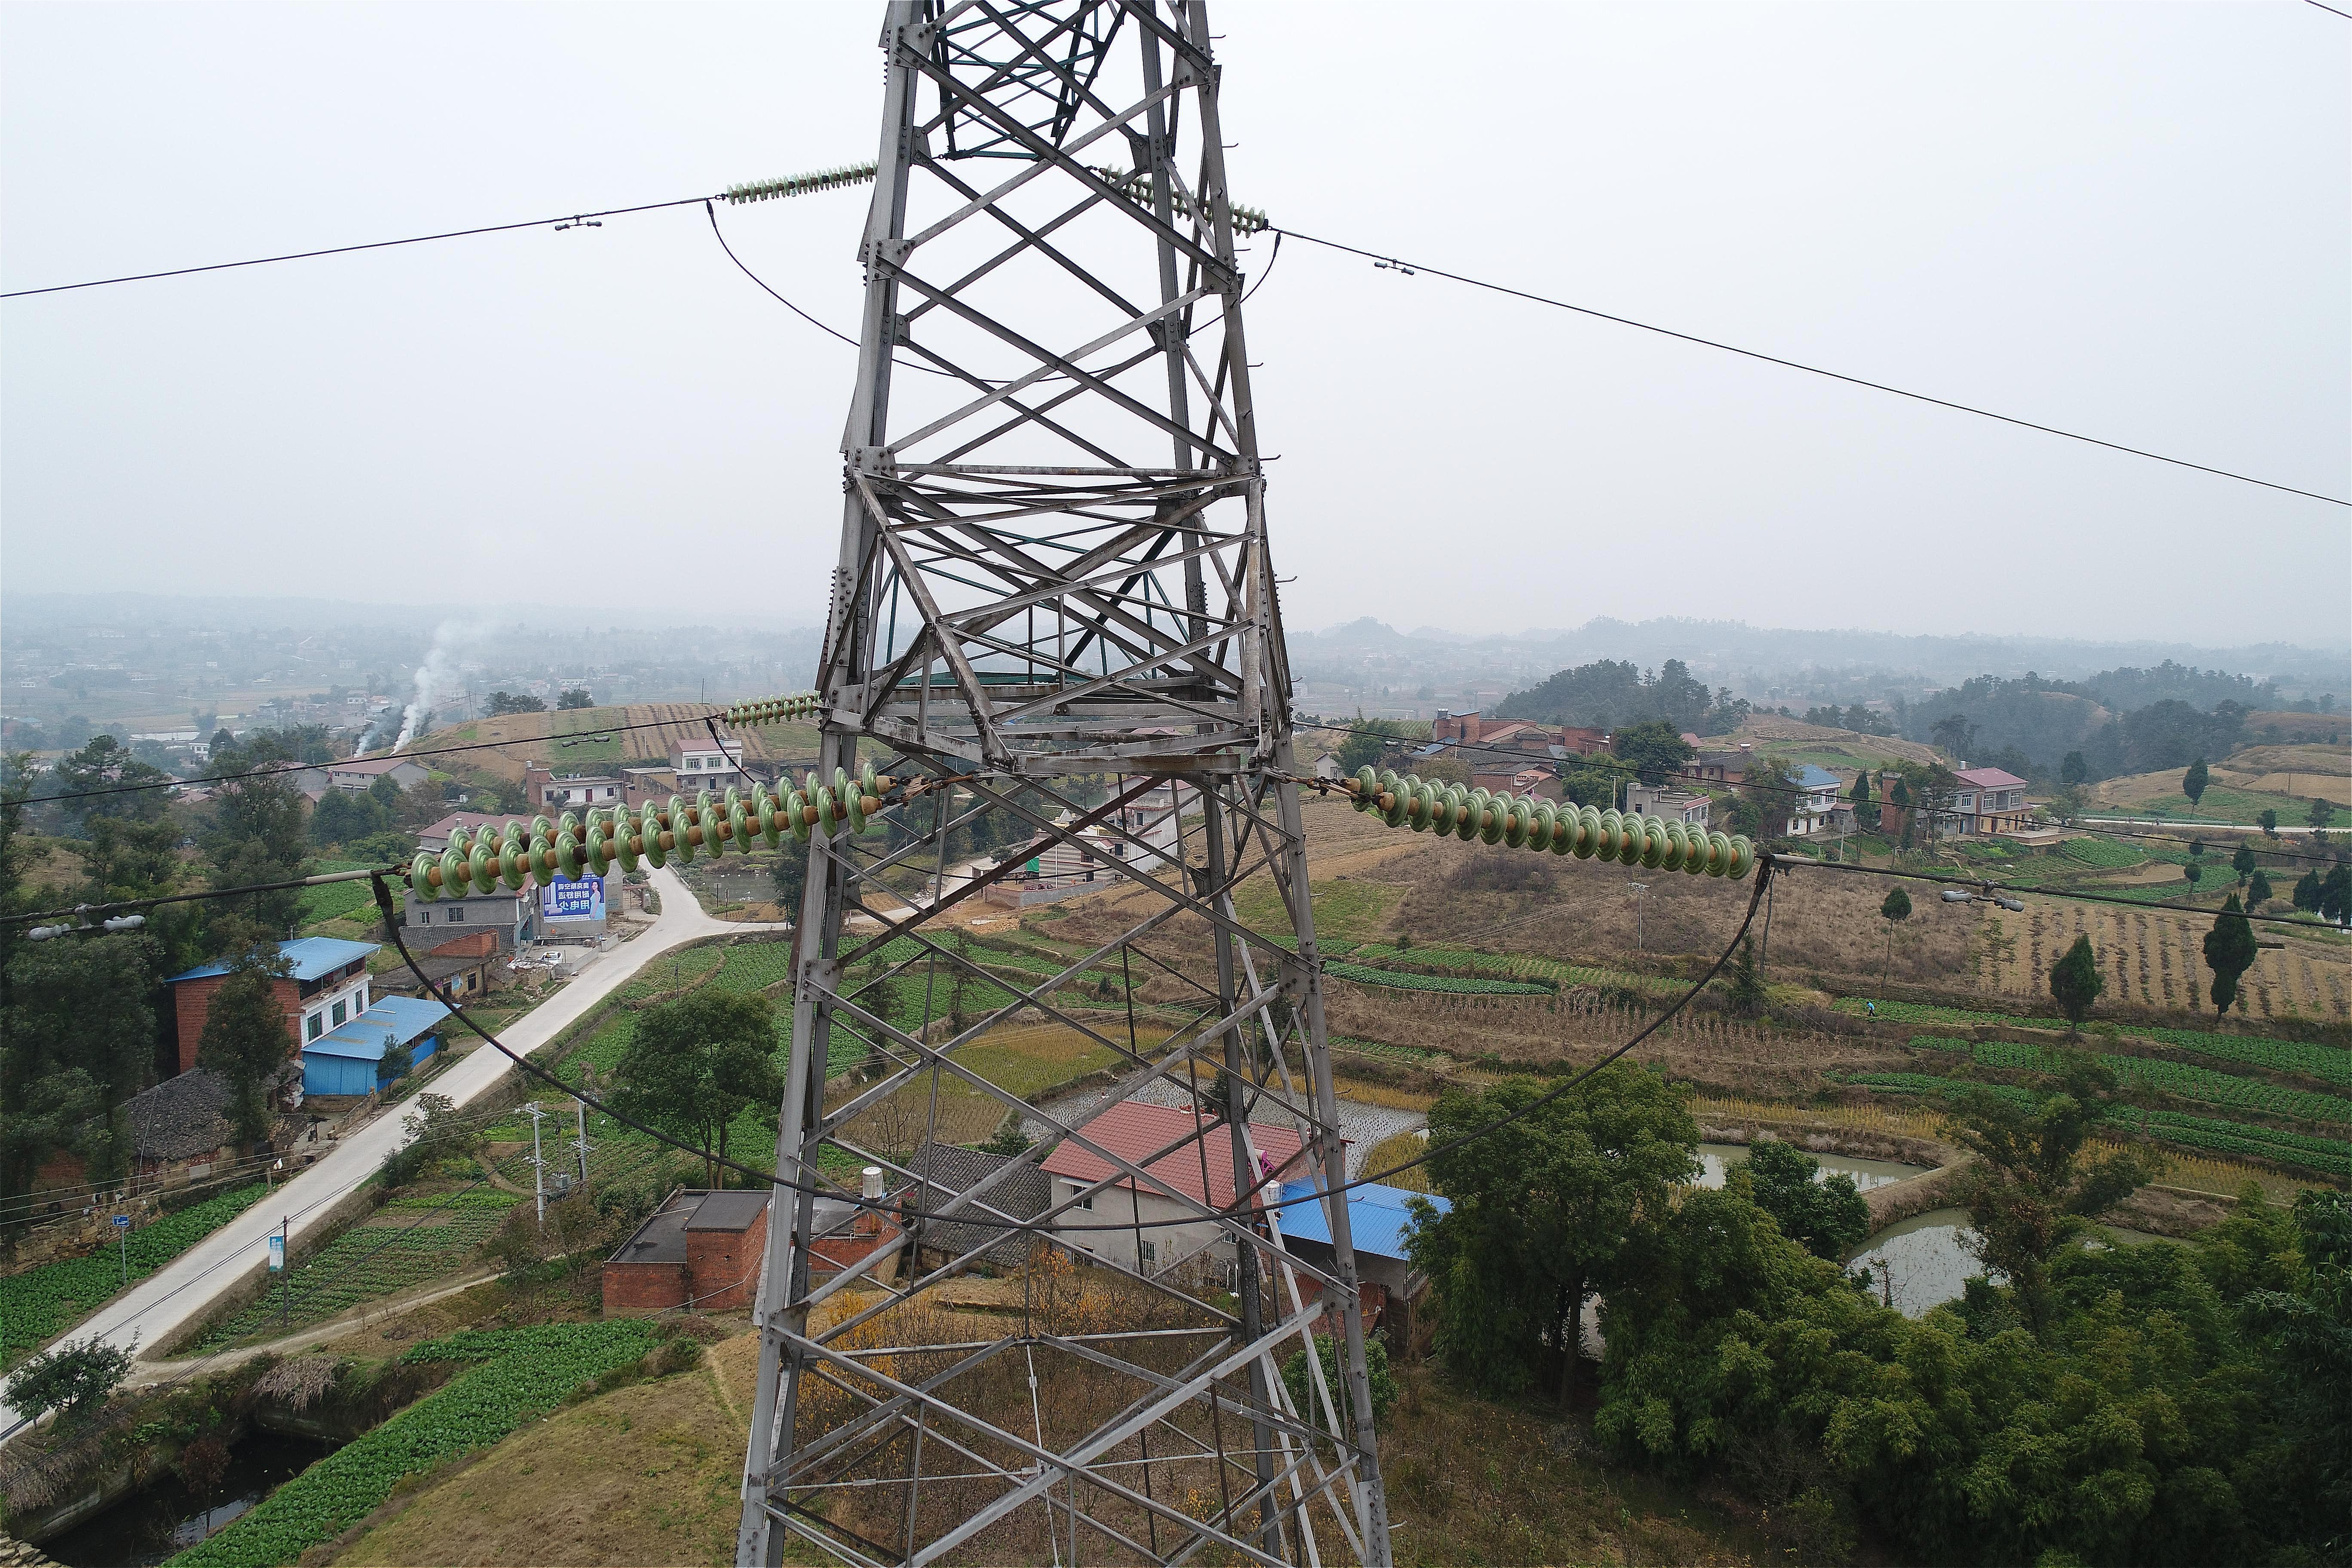insultor3: (409, 759, 882, 903), (1351, 758, 1760, 882), (723, 164, 882, 210)
